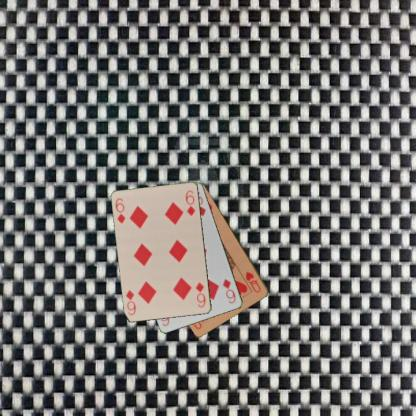6d: (220, 276, 237, 305), (112, 195, 126, 225), (193, 280, 207, 309)
Qh: (243, 269, 262, 294)
